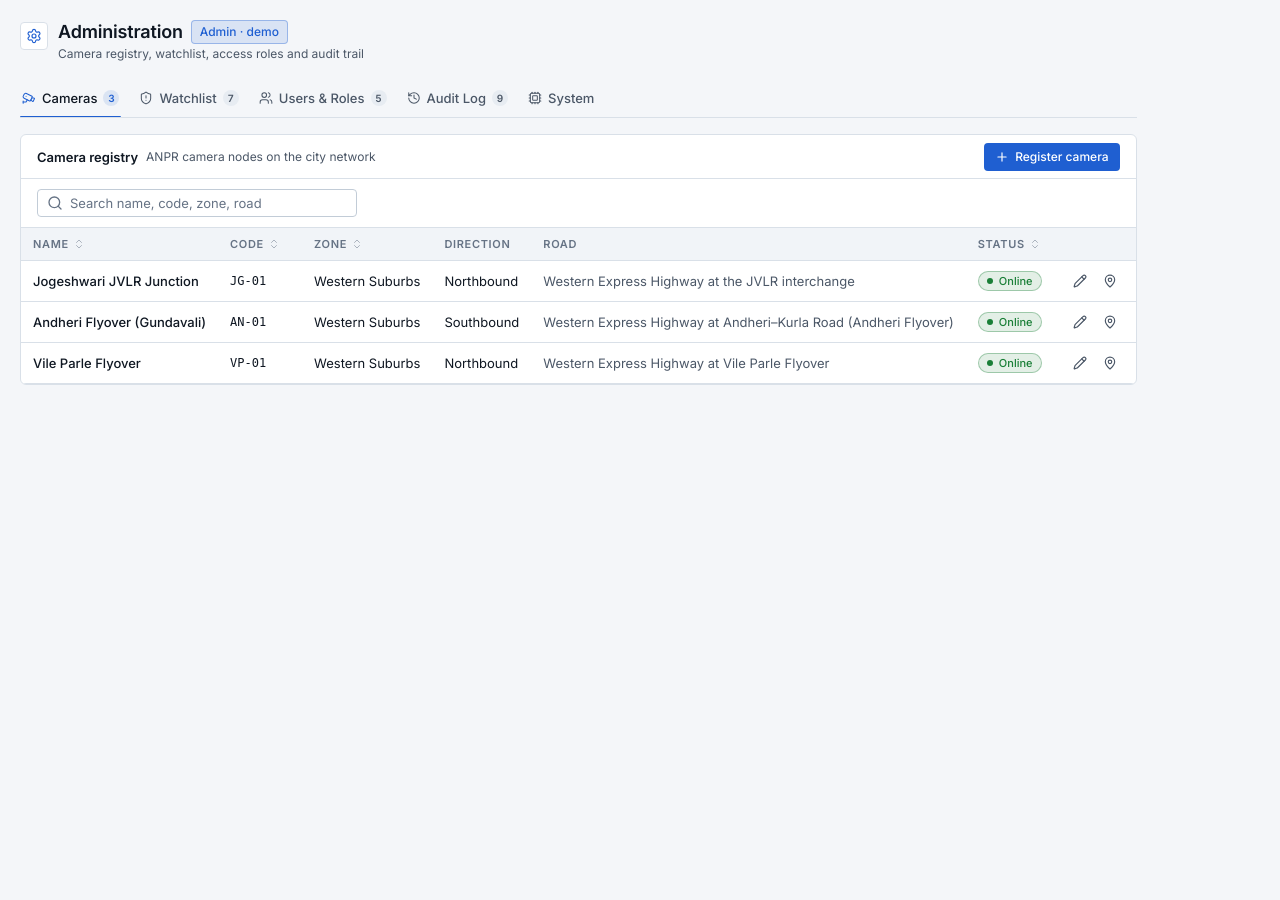
Test: AdminPage › lists cameras and validates the register-camera form
This screenshot has width=1280, height=900.
Expected: the text "Jogeshwari JVLR Junction" is shown, [33, 272, 199, 288]
Click the button "Register camera". click: coordinates (1052, 156)
box: [984, 142, 1120, 170]
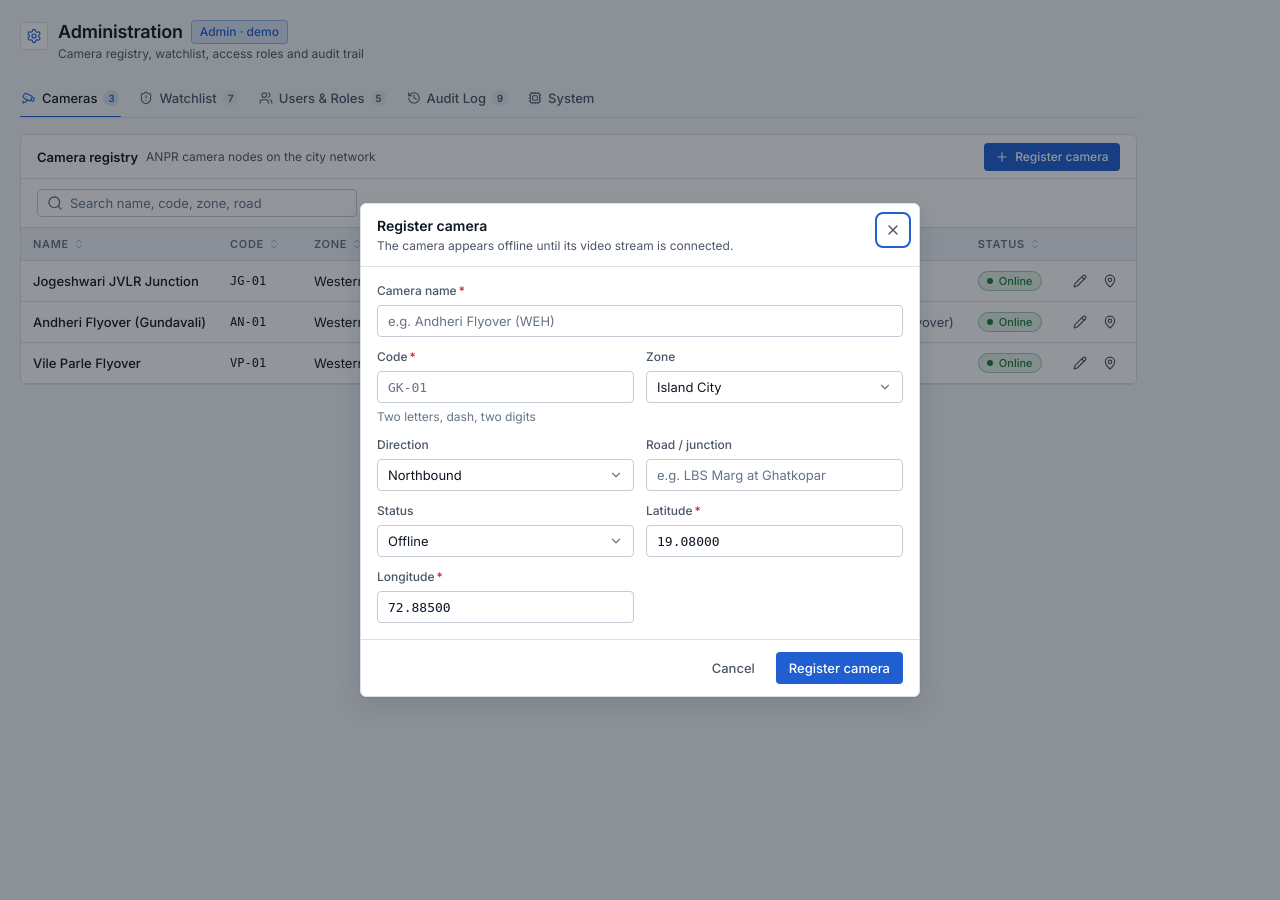
Type "JG-01" into the field labelled "Code*". click: coordinates (506, 387)
box: [377, 371, 634, 403]
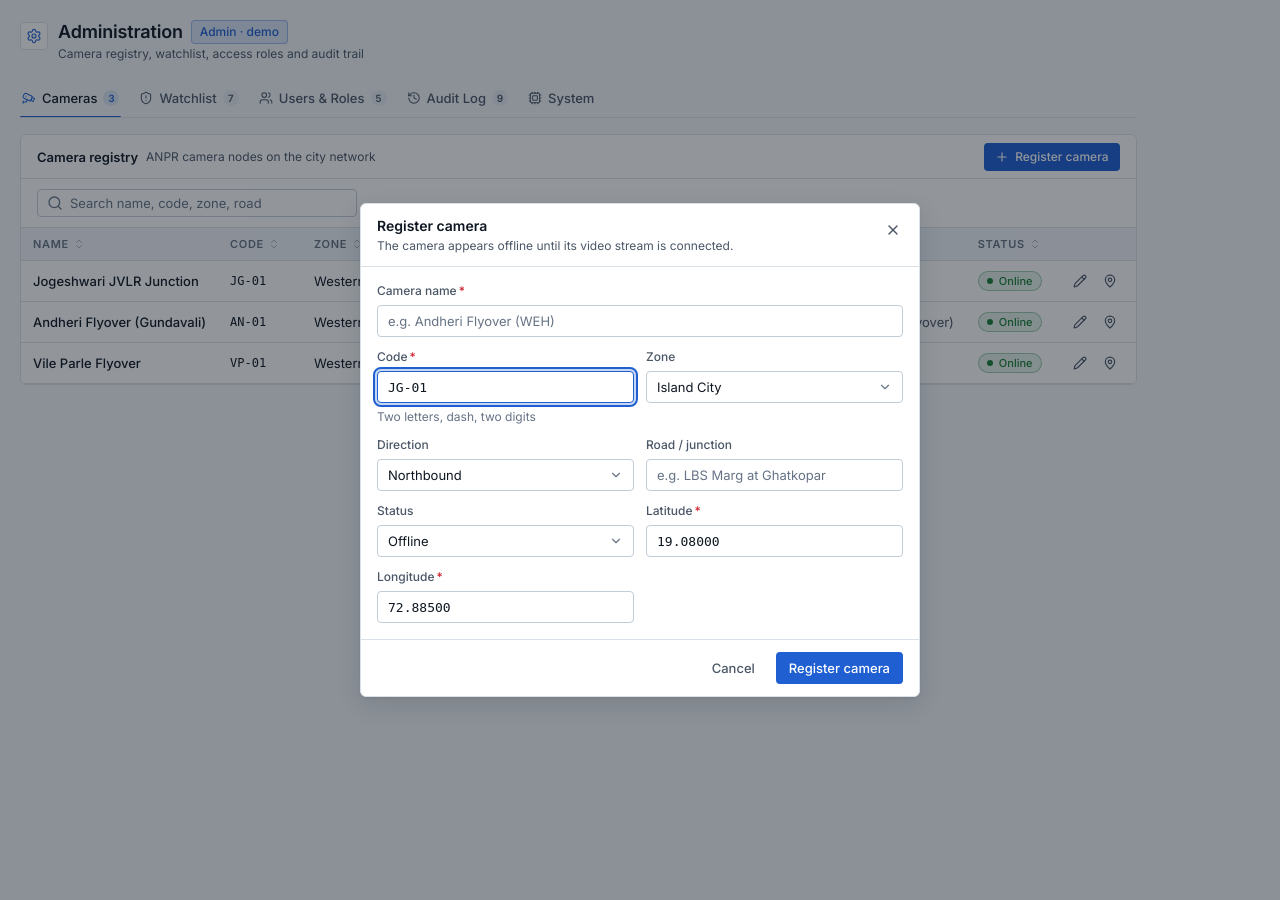
Click the button "Register camera". click: coordinates (839, 668)
box: [776, 652, 903, 684]
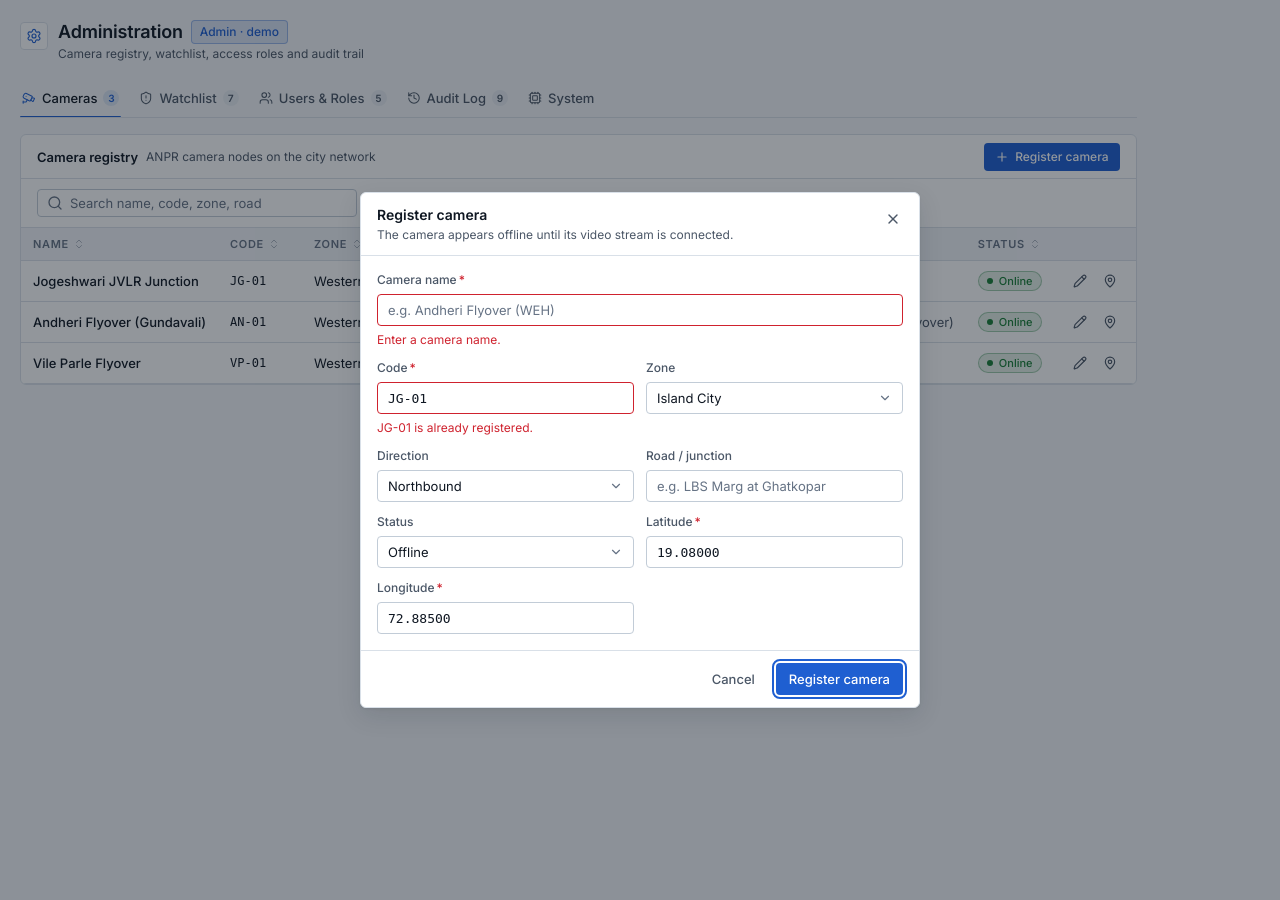
Expected: the text "Enter a camera name." is shown, [377, 332, 501, 347]
Expected: the text "JG-01 is already registered." is shown, [377, 420, 533, 435]
Type "ITO Crossing" into the field labelled "Camera name*". click: coordinates (640, 310)
box: [377, 294, 903, 326]
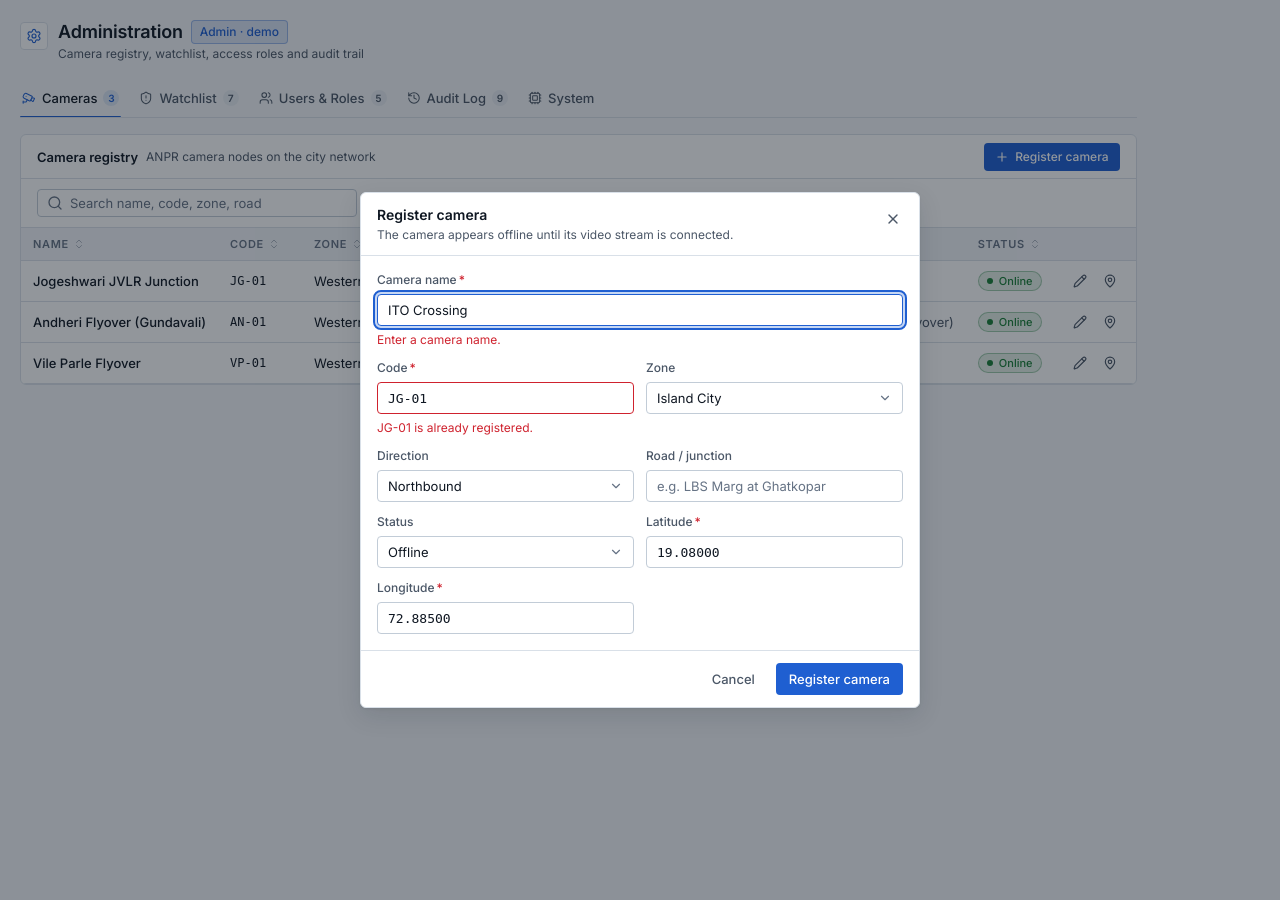
Replace the text in the field labelled "Code*" with "it-01". click: coordinates (506, 398)
box: [377, 382, 634, 414]
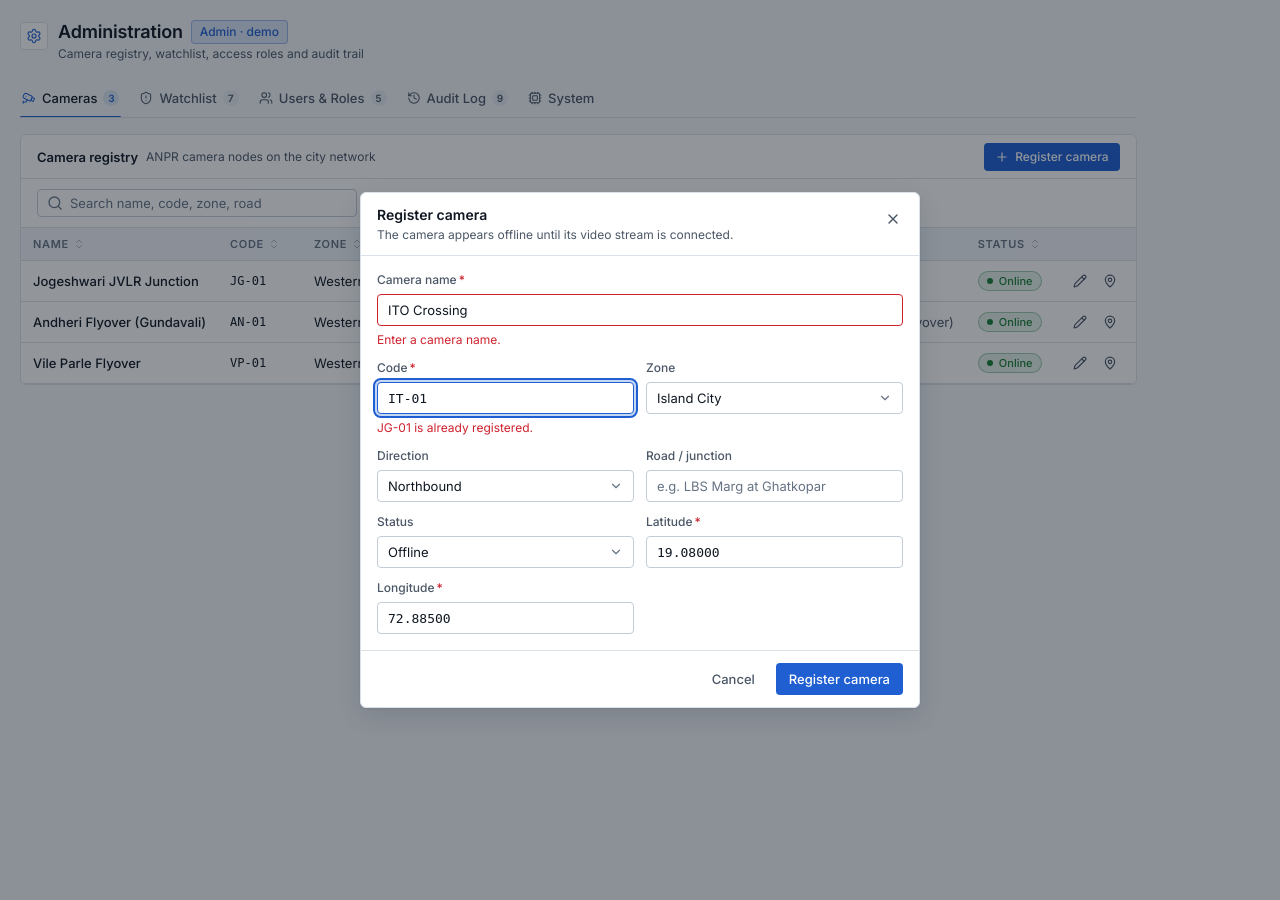
Click the button "Register camera". click: coordinates (839, 679)
box: [776, 663, 903, 695]
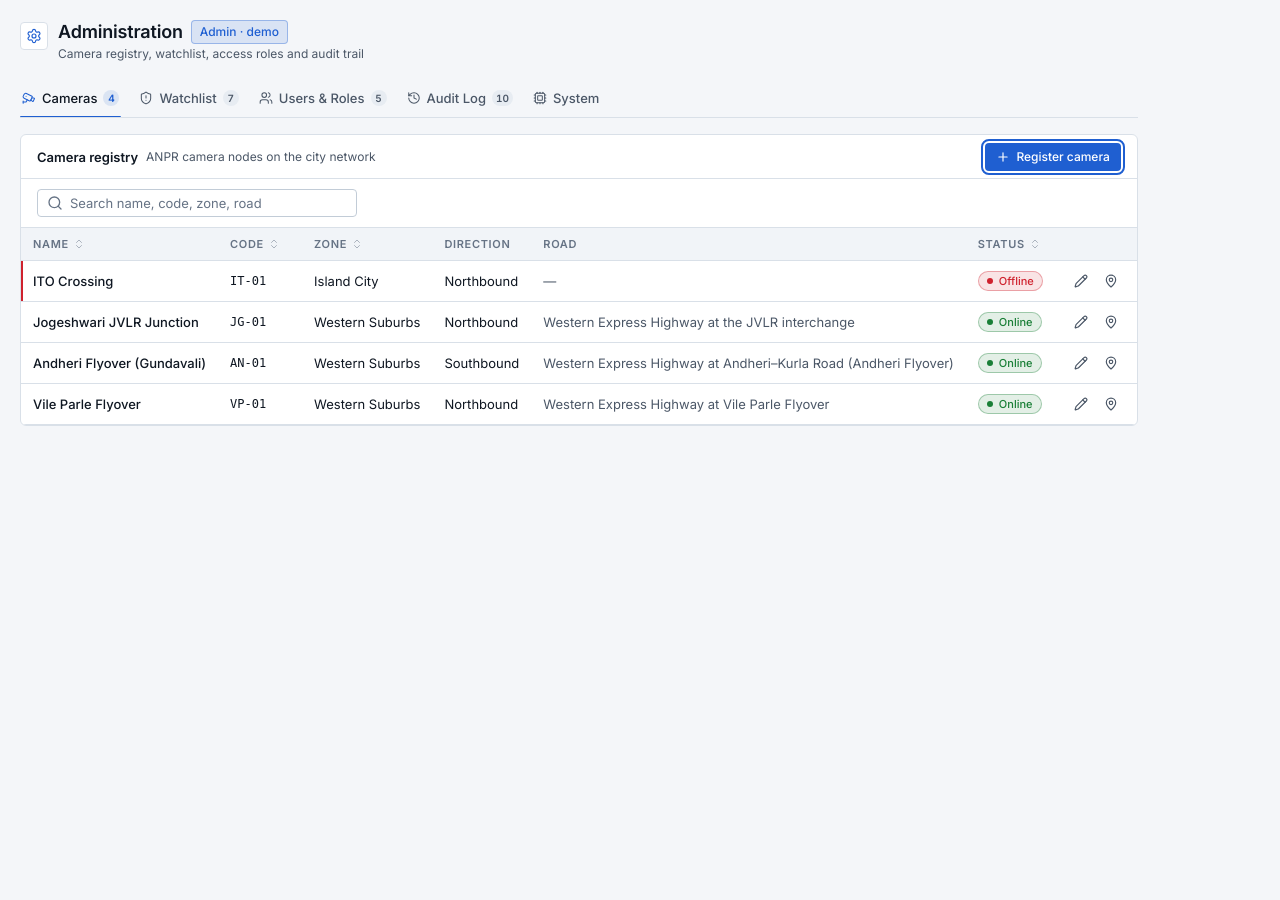
Expected: the dialog is gone
Expected: the text "ITO Crossing" is shown, [33, 272, 113, 288]
